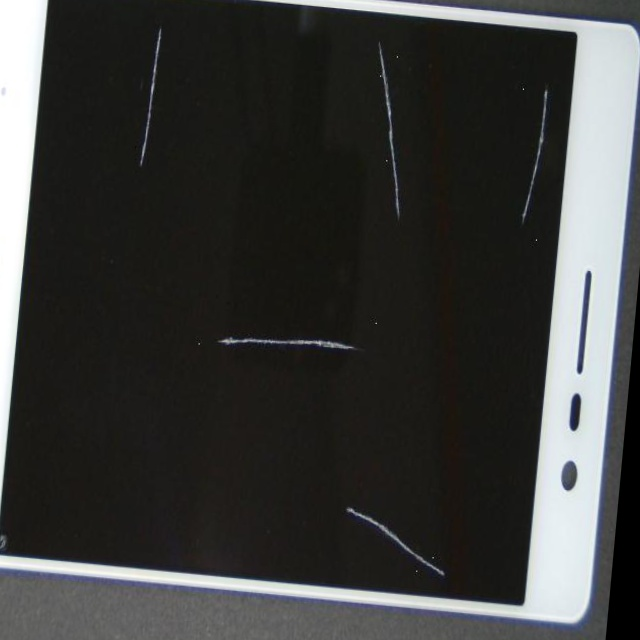scratch: (129, 172, 571, 640), (216, 84, 640, 434), (234, 105, 508, 512), (22, 23, 236, 318), (201, 0, 611, 119)
